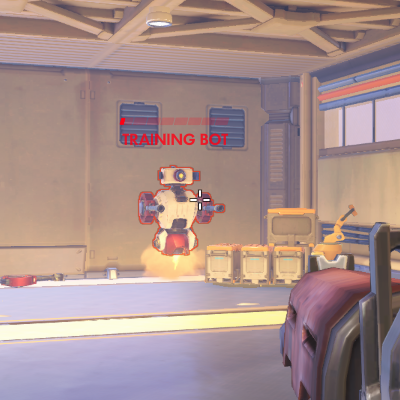hpbar: (119, 117, 229, 126)
